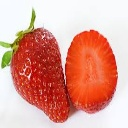strawberry: (9, 25, 70, 124)
